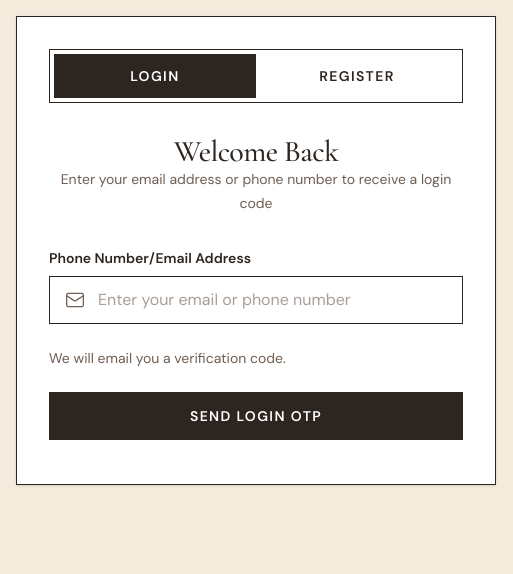
Test: CustomerLoginForm › explains how to test an existing phone account from localhost
Type "9876543210" into the field with placeholder "Enter your email or phone number" at [256, 300], box [49,276,463,324]
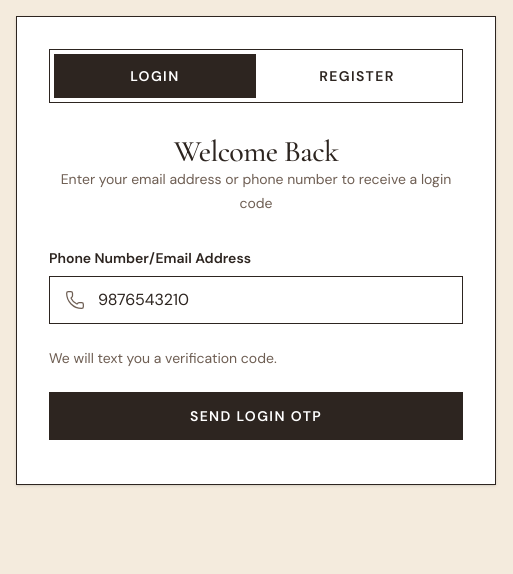
Click the button "SEND LOGIN OTP" at [256, 416], box [49,392,463,440]
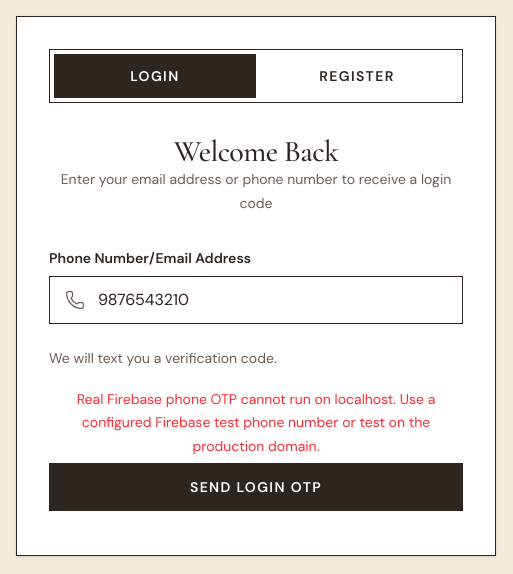
Expected: the text "Real Firebase phone OTP cannot run on localhost. Use a configured Firebase test phone number or test on the production d" is shown, [77,390,435,455]
